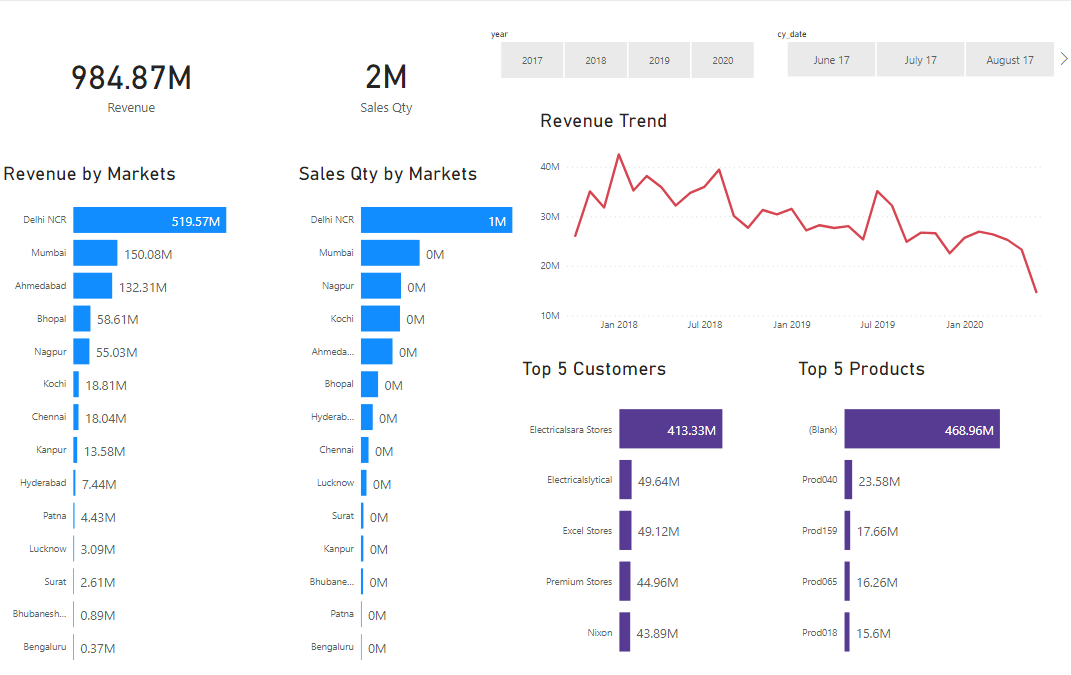

The dashboard page shown, as its layout file describes it:
{"tool":"powerbi","page":{"name":"Page 1","canvas":[1350,850],"ordinal":0},"visuals":[{"type":"card","fields":{"Values":["BaseMeasures.Revenue"]},"box":[0,0,331.9,202.9],"z":0},{"type":"card","fields":{"Values":["BaseMeasures.Sales Qty"]},"box":[320.4,0,331.7,201.7],"z":1000},{"type":"barChart","title":"Revenue by Markets","fields":{"Y":["BaseMeasures.Revenue"],"Category":["sales markets.markets_name"]},"box":[0,201.7,320.4,648.3],"z":2000},{"type":"barChart","title":"Sales Qty by Markets","fields":{"Category":["sales markets.markets_name"],"Y":["BaseMeasures.Sales Qty"]},"box":[371.3,201.7,280.8,648.3],"z":3000},{"type":"slicer","fields":{"Values":["sales date.year"]},"box":[605,30.2,367.5,73.5],"z":4000},{"type":"slicer","fields":{"Values":["sales date.cy_date"]},"box":[965,30.2,384.5,71.6],"z":5000},{"type":"barChart","title":"Top 5 Customers","fields":{"Y":["BaseMeasures.Revenue"],"Category":["sales customers.custmer_name"]},"box":[652.1,446.7,320.4,403.3],"z":6000},{"type":"barChart","title":"Top 5 Products","fields":{"Y":["BaseMeasures.Revenue"],"Category":["sales products.product_code"]},"box":[998.9,446.7,318.5,403.3],"z":7000},{"type":"lineChart","title":"Revenue Trend","fields":{"Y":["BaseMeasures.Revenue"],"Category":["sales date.cy_date"]},"box":[674.7,135.7,657.8,290.2],"z":8000}]}

Visuals, with their boxes in screenshot pixels (x1, y1, x2, y2), scaled from the page's 1350x850 canvas onto the 1071x675 screenshot:
card - BaseMeasures.Revenue: 0:0:263:161
card - BaseMeasures.Sales Qty: 254:0:517:160
"Revenue by Markets" barChart: 0:160:254:674
"Sales Qty by Markets" barChart: 295:160:517:674
slicer - sales date.year: 480:24:772:82
slicer - sales date.cy_date: 766:24:1070:81
"Top 5 Customers" barChart: 517:355:772:674
"Top 5 Products" barChart: 792:355:1045:674
"Revenue Trend" lineChart: 535:108:1057:338
